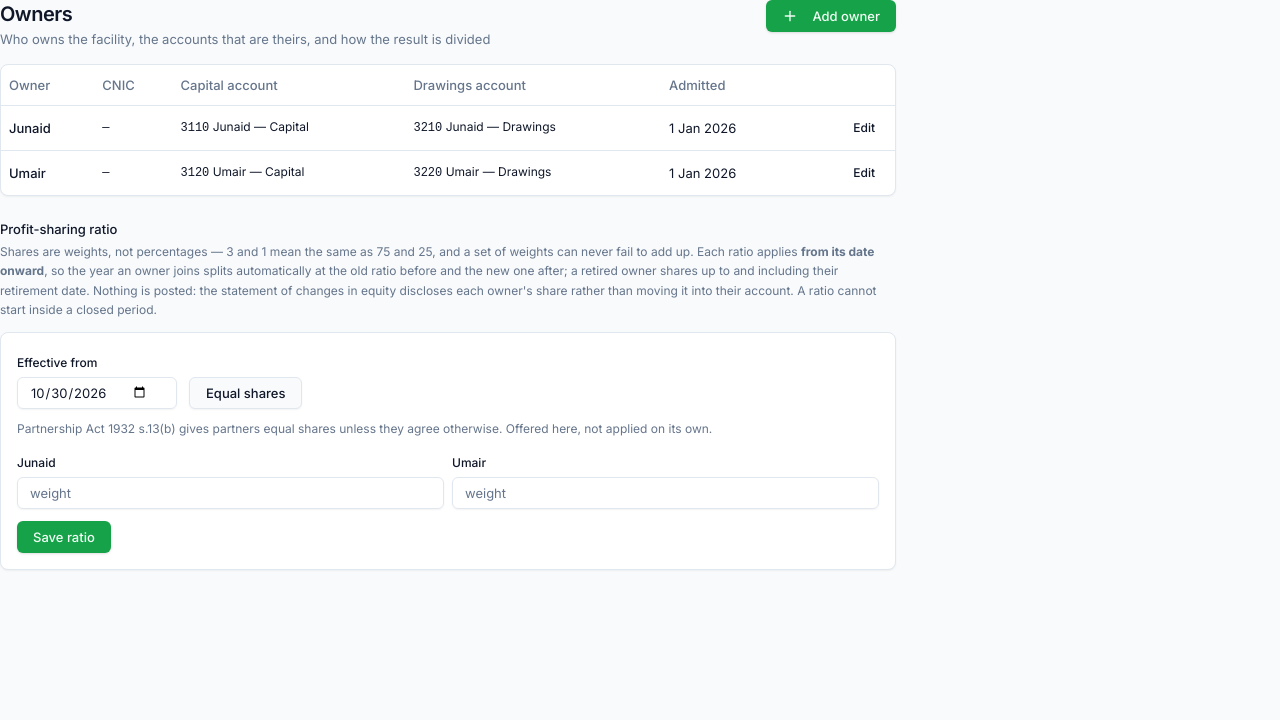
Test: PartnersPage — an owner is a record, with both their accounts › promises both accounts when adding, so no code has to be invented
This screenshot has width=1280, height=720.
Expected: the text "3110" is shown, [180,121,209,135]
Click the button "Add owner" at (831, 16), box [766,0,896,32]
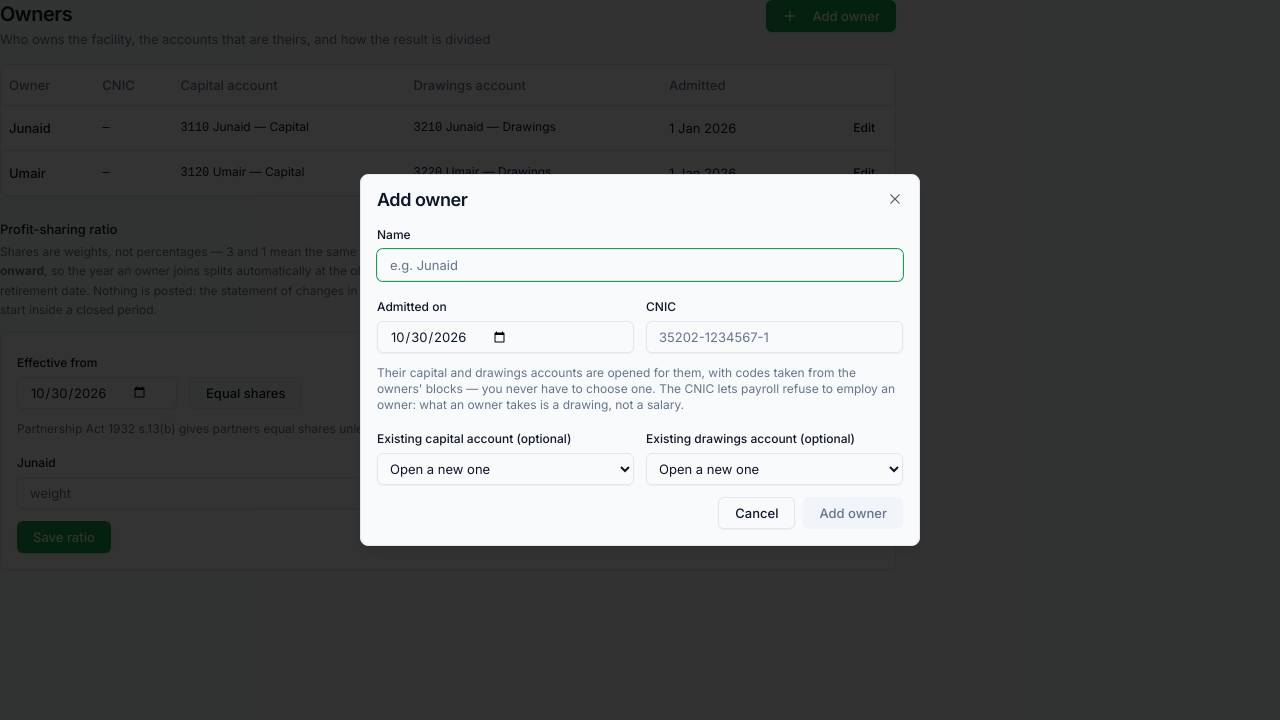
Expected: the text "you never have to choose one" is shown, [377,365,895,412]
